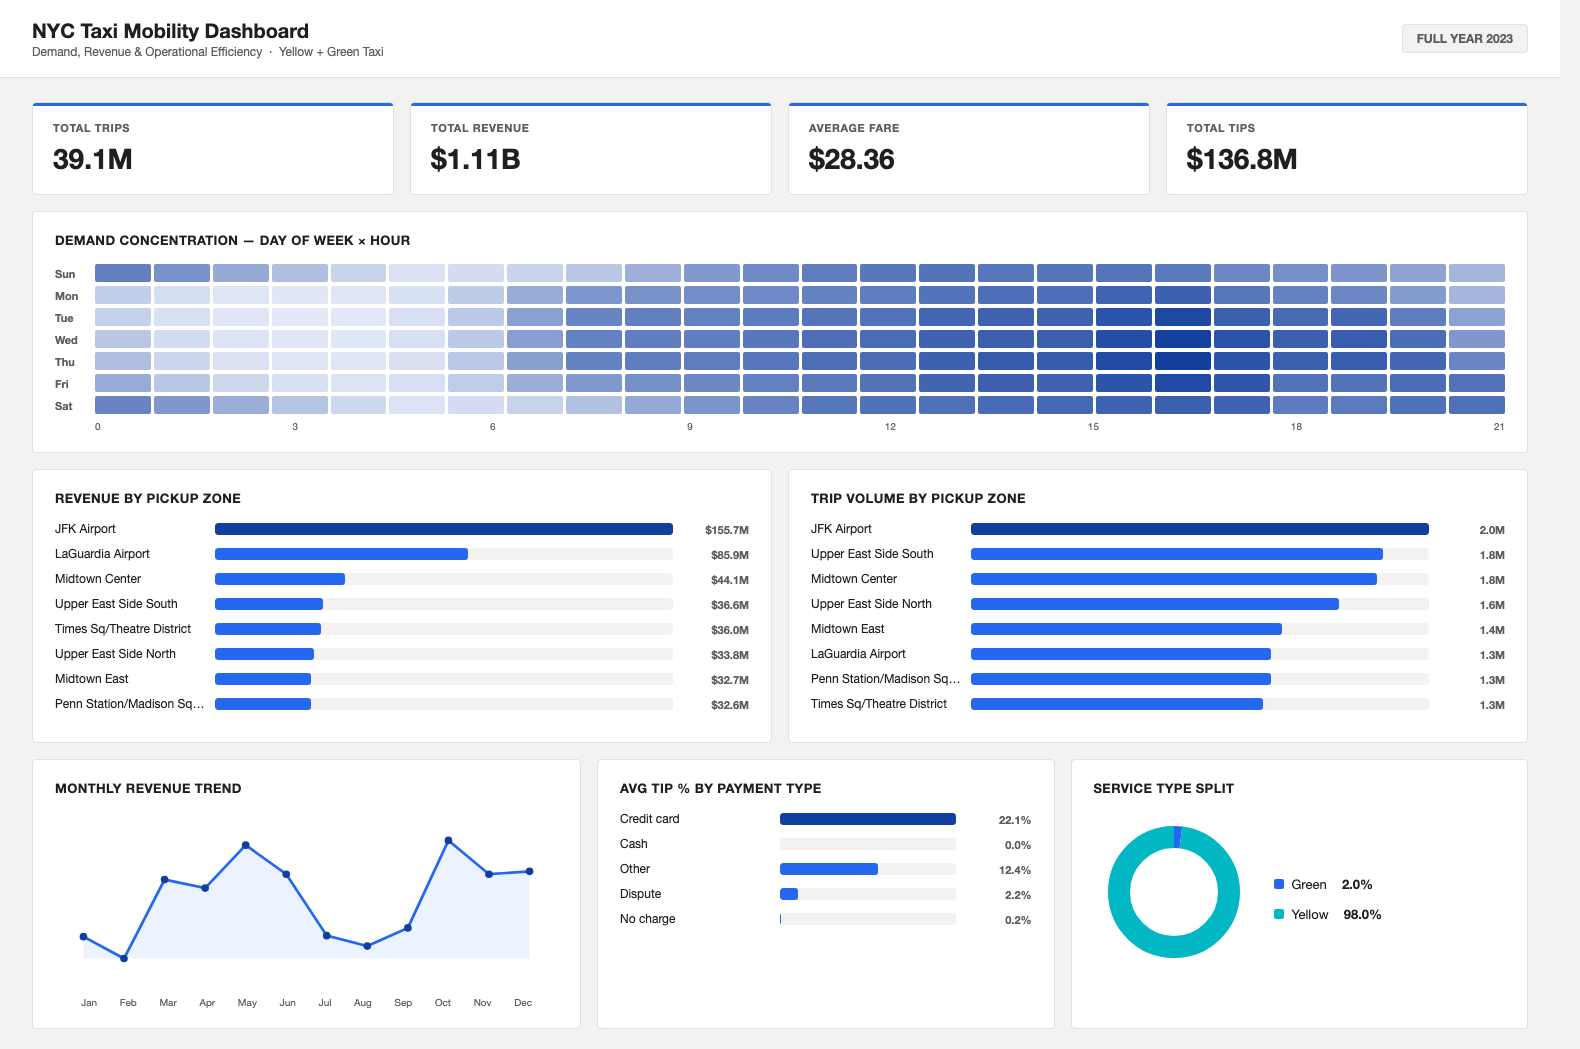

What the dashboard file says about the page in this screenshot:
{"tool":"tableau","page":{"name":"Dashboard 1","canvas":[1400,1000],"ordinal":0},"visuals":[{"type":"title","box":[8,8,1223,42]},{"type":"legend","title":"Demand Heatmap","param":"[federated.1ifaj7z114v0by1d0yz9h1g8inuj].[sum:trip_count:qk]","box":[1231,8,161,65]},{"type":"worksheet","title":"KPI - Total Revenue","mark":"Automatic","box":[8,50,1223,125]},{"type":"legend","title":"Revenue by Pickup Zone","param":"[federated.1ifaj7z114v0by1d0yz9h1g8inuj].[none:borough:nk]","box":[1231,73,161,66]},{"type":"worksheet","title":"KPI - Avg Fare","mark":"Automatic","box":[8,175,1223,123]},{"type":"worksheet","title":"KPI - Total Trips","mark":"Automatic","box":[8,298,1223,128]},{"type":"worksheet","title":"Demand Heatmap","mark":"Square","rows":["day_name"],"cols":["pickup_hour"],"box":[8,426,1223,216]},{"type":"worksheet","title":"Revenue by Pickup Zone","mark":"Automatic","rows":["zone"],"cols":["total_revenue"],"box":[8,642,1384,103.4]},{"type":"worksheet","title":"Trip Volume by Pickup Zone","mark":"Automatic","rows":["zone"],"cols":["trip_count"],"box":[8,745.4,1384,123.3]},{"type":"worksheet","title":"Monthly Revenue Trend","mark":"Line","rows":["total_revenue"],"cols":["month_name"],"box":[8,868.7,1384,61.6]},{"type":"worksheet","title":"Payment and Tip Behavior","mark":"Automatic","rows":["payment_label"],"cols":["Calculation_0199528075948033"],"box":[8,930.4,1384,61.6]}]}

Visuals, with their boxes on the page's 1400x1000 design canvas (x1, y1, x2, y2). These are canvas units, not pixel positions in the 1580x1049 screenshot, which may show the page scaled, cropped or inside an application window:
title: (x1=8, y1=8, x2=1231, y2=50)
"Demand Heatmap" legend: (x1=1231, y1=8, x2=1392, y2=73)
"KPI - Total Revenue" worksheet: (x1=8, y1=50, x2=1231, y2=175)
"Revenue by Pickup Zone" legend: (x1=1231, y1=73, x2=1392, y2=139)
"KPI - Avg Fare" worksheet: (x1=8, y1=175, x2=1231, y2=298)
"KPI - Total Trips" worksheet: (x1=8, y1=298, x2=1231, y2=426)
"Demand Heatmap" worksheet (Square marks): (x1=8, y1=426, x2=1231, y2=642)
"Revenue by Pickup Zone" worksheet: (x1=8, y1=642, x2=1392, y2=745)
"Trip Volume by Pickup Zone" worksheet: (x1=8, y1=745, x2=1392, y2=869)
"Monthly Revenue Trend" worksheet (Line marks): (x1=8, y1=869, x2=1392, y2=930)
"Payment and Tip Behavior" worksheet: (x1=8, y1=930, x2=1392, y2=992)
